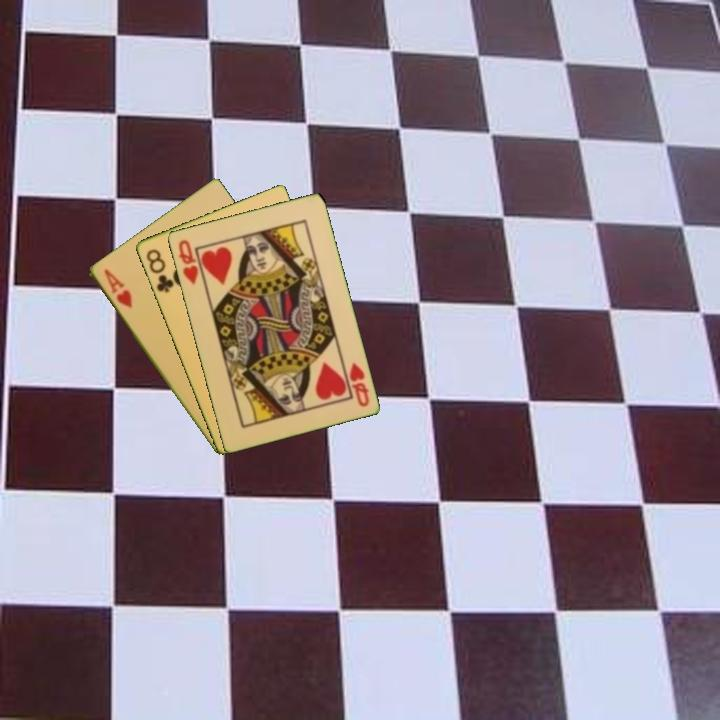8c: (142, 245, 176, 295)
Ah: (100, 265, 135, 311)
Qh: (345, 359, 372, 409), (175, 236, 201, 287)
